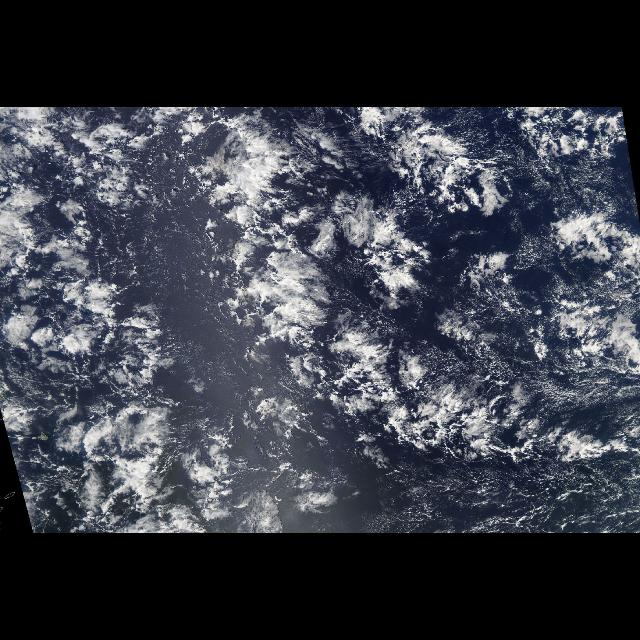Gravel: (310, 401, 640, 531)
Sugar: (101, 188, 241, 448)
